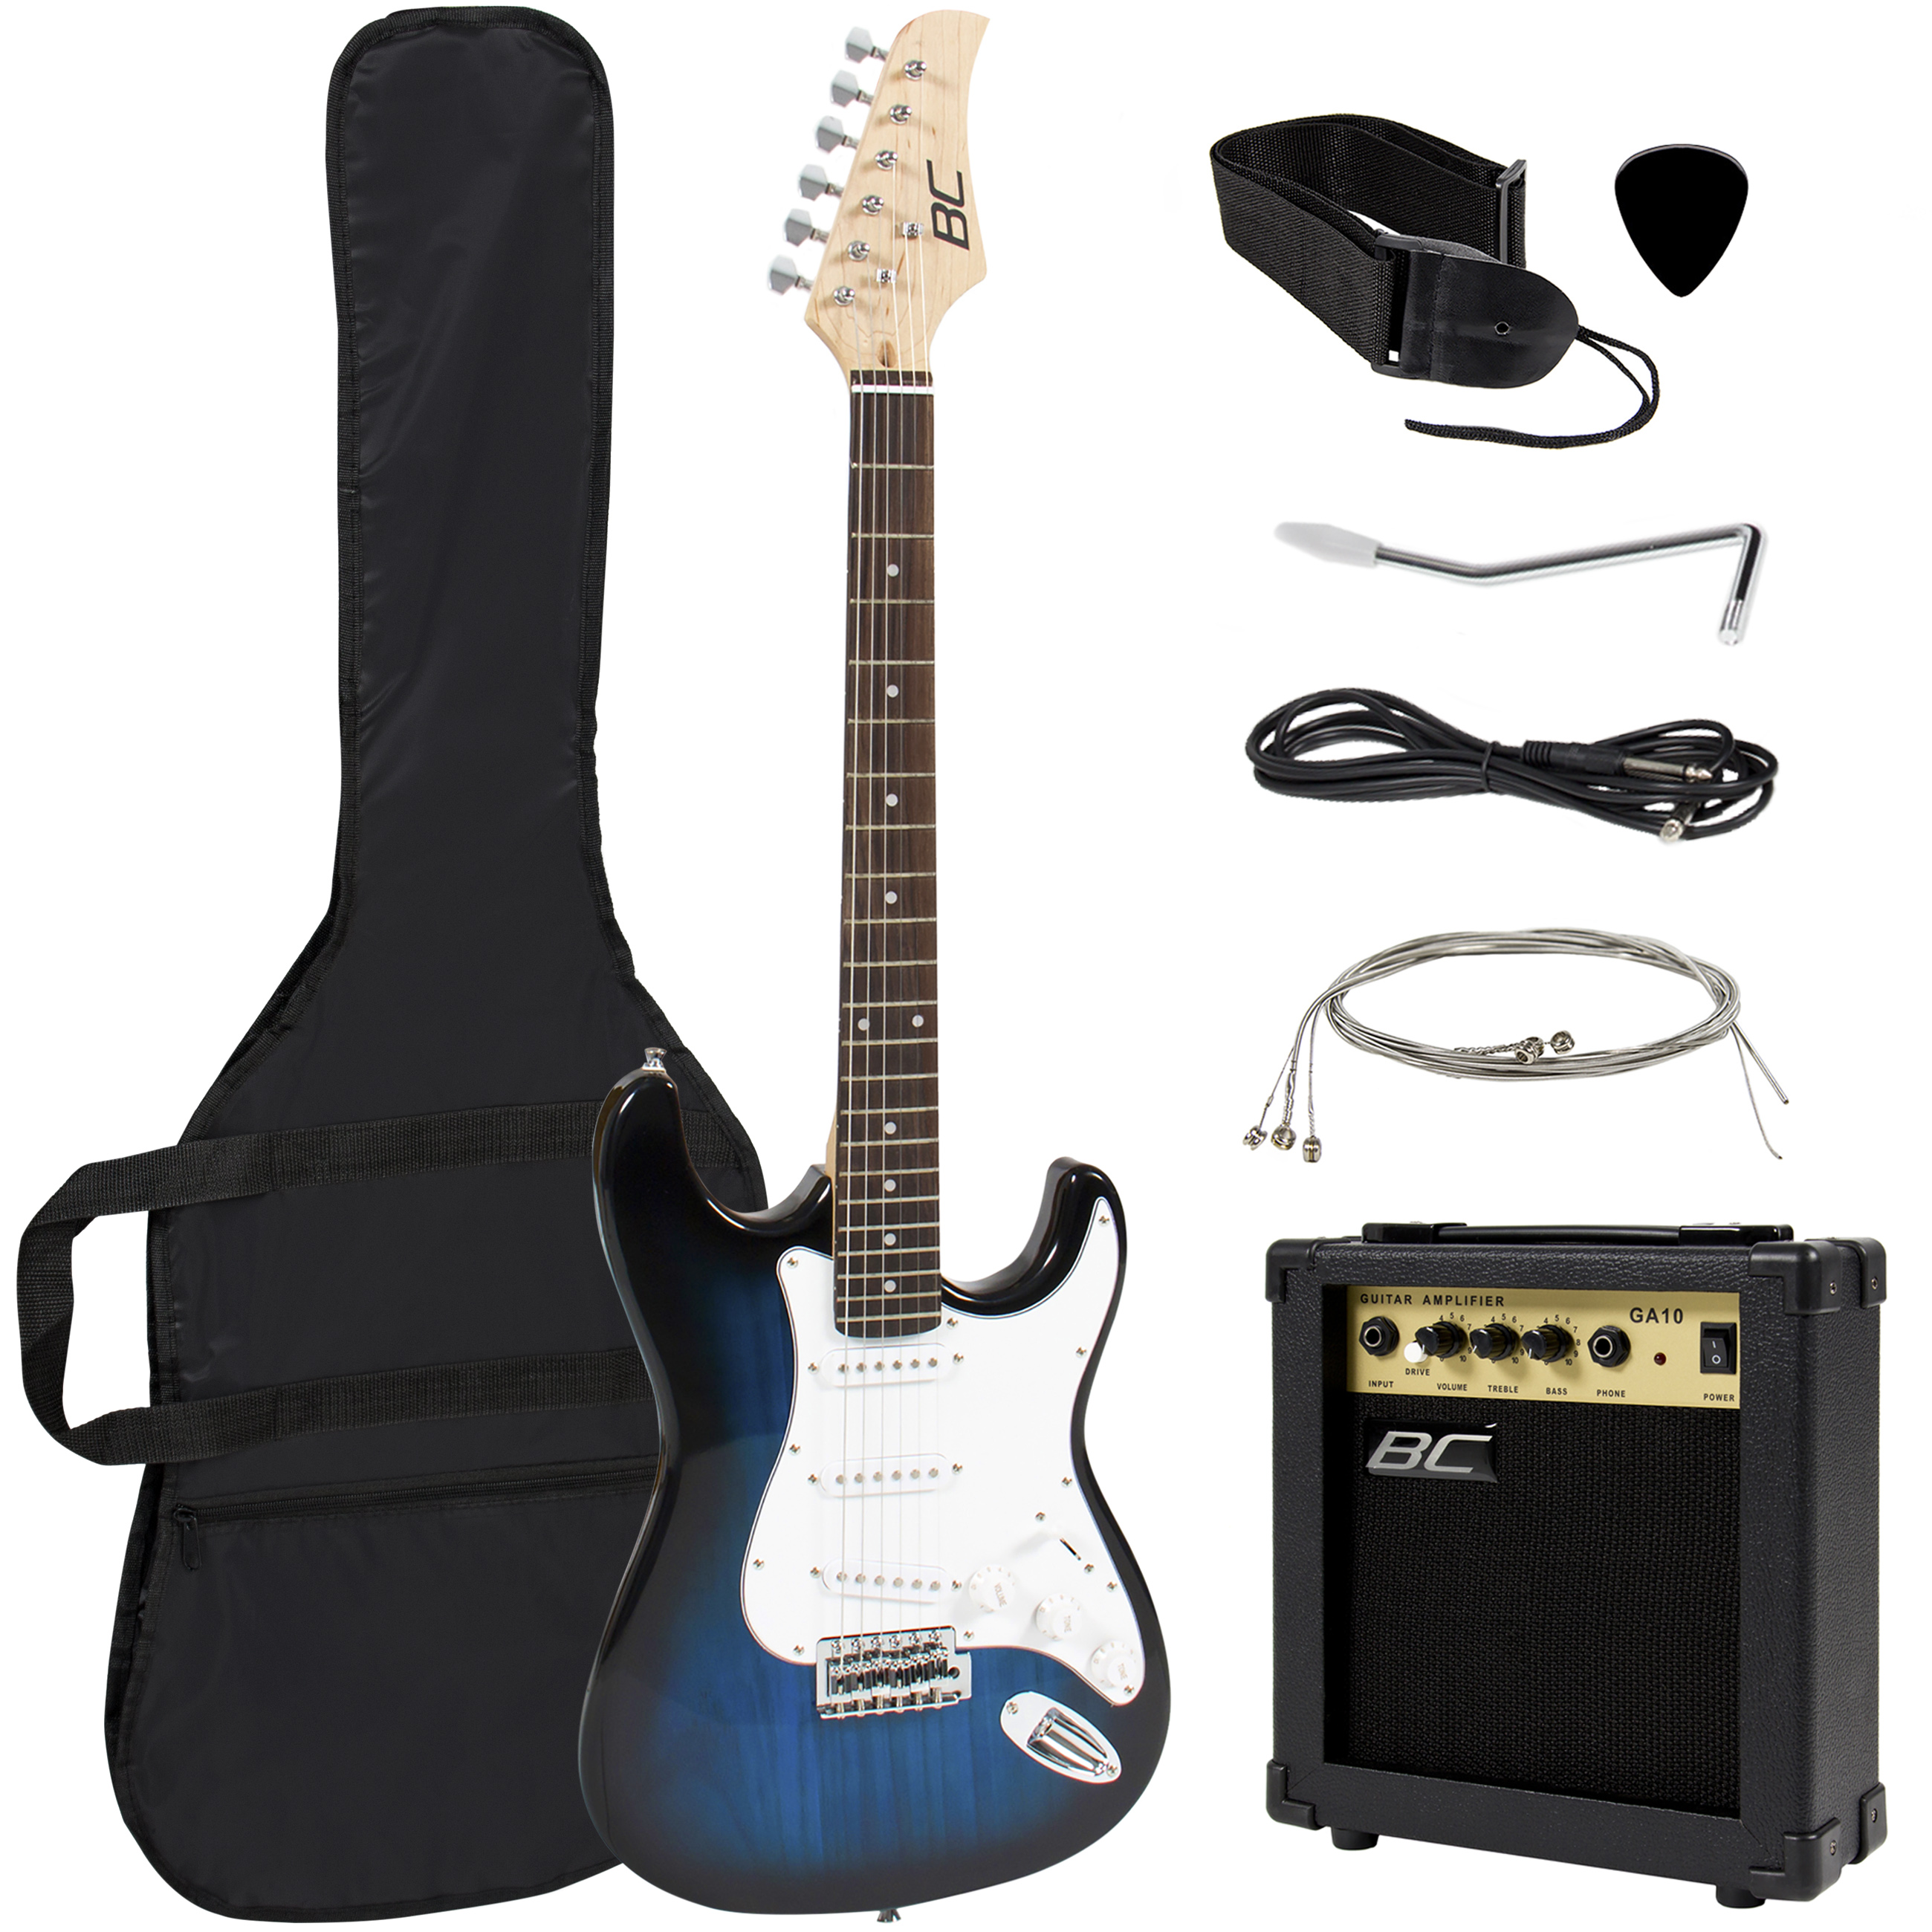ElectricGuitar: (577, 14, 1173, 1927)
